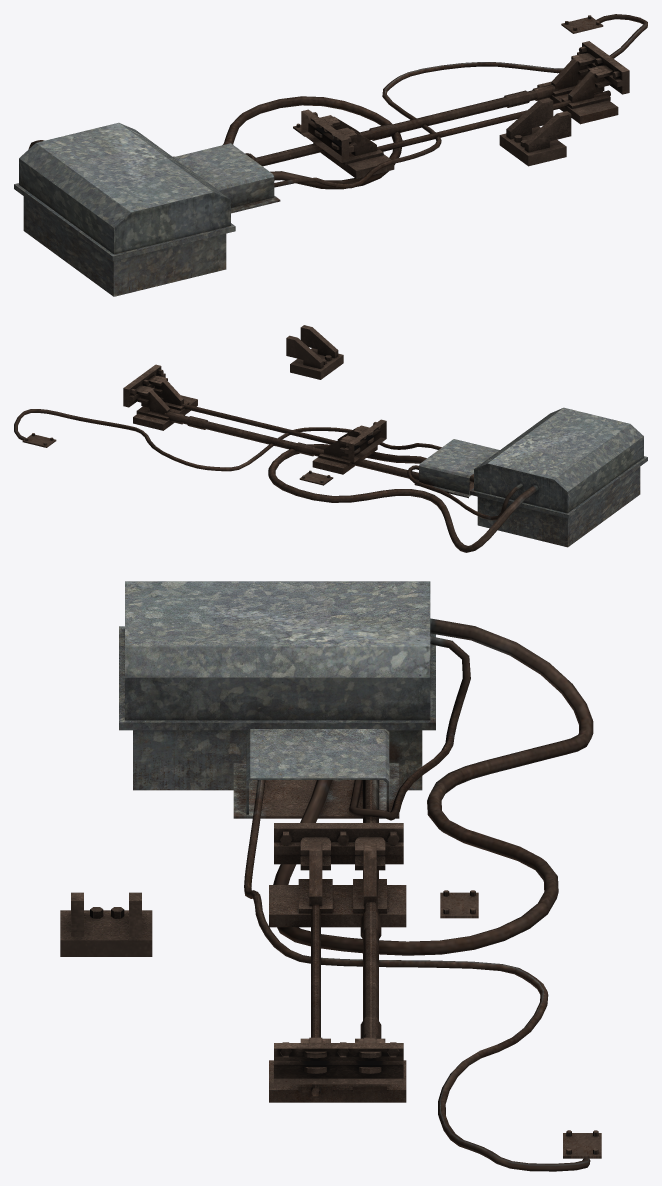
File: JunctionAutomatic.fbx
3 renders of one model, top to bottom at view 1: azimuth 30°, elevation 25°; view 2: azimuth 150°, elevation 25°; view 3: azimuth 270°, elevation 25°, orthographic. The views are drawn at different scales.
Parts seen in each view (by area): view 1: 1_1000_track_switch_automatic; view 2: 1_1000_track_switch_automatic; view 3: 1_1000_track_switch_automatic.
Boxes of the visible parts, x1=… form: 1_1000_track_switch_automatic: x1=14, y1=14, x2=647, y2=296; 1_1000_track_switch_automatic: x1=14, y1=325, x2=647, y2=552; 1_1000_track_switch_automatic: x1=60, y1=581, x2=601, y2=1171.
Bounding box in the file's own units: 327 × 42.77 × 145.
